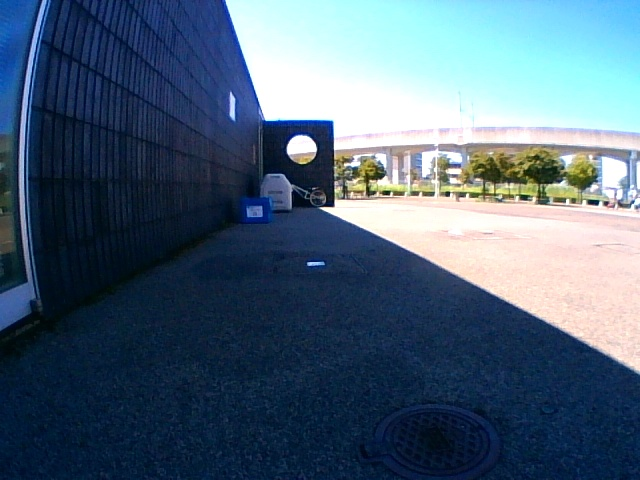blue_box: (240, 197, 271, 222)
tag: (246, 205, 263, 217)
